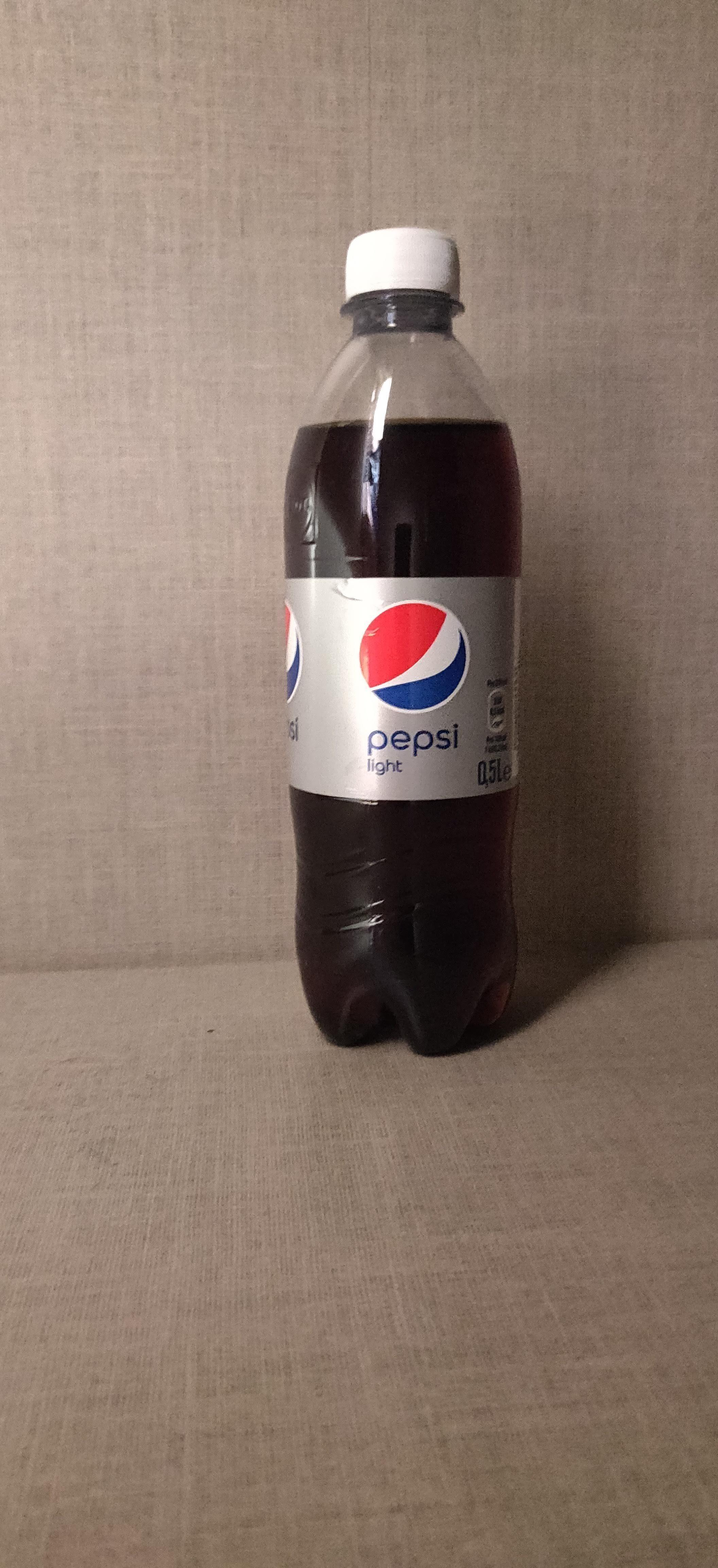bottle-plastic: (277, 224, 535, 1054)
